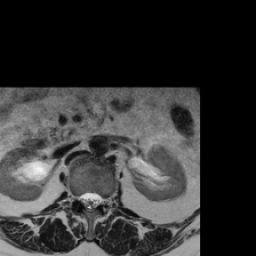CCS_normal: (87, 185, 93, 217)
LFS_normal: (100, 189, 107, 210)
LLS_normal: (93, 185, 100, 212)
RFS_normal: (72, 187, 79, 205)
RLS_normal: (79, 187, 87, 209)
